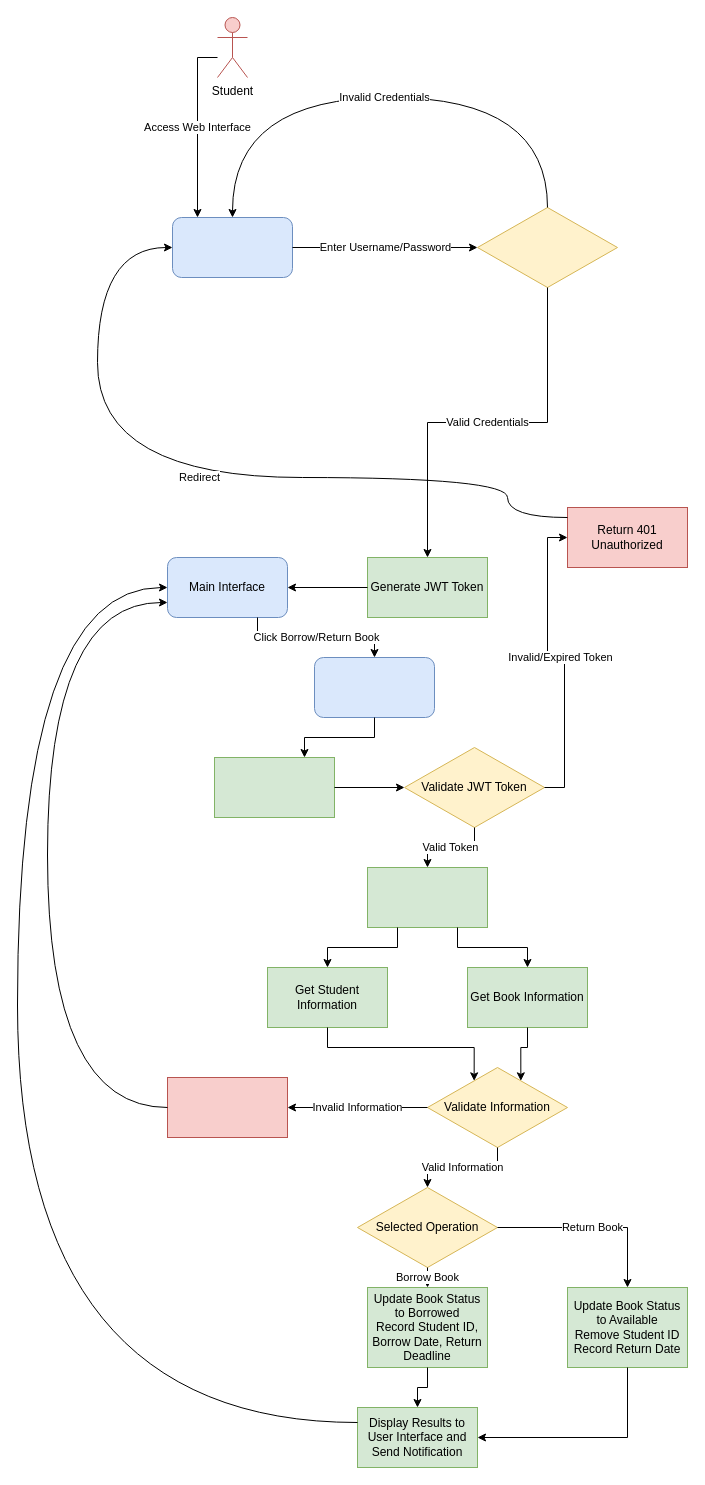
Image size: 705x1485. Some labels were removed from this diagram. Each missing label, with the centre of its shape:
"Authentication Server" goes at [547,247].
"Borrow/Return Interface" goes at [374,687].
"Display Error Message" goes at [227,1107].
"Login Screen" goes at [232,247].
"Query PostgreSQL Database" goes at [427,897].
"Send HTTP Request with JWT Token" goes at [274,787].
